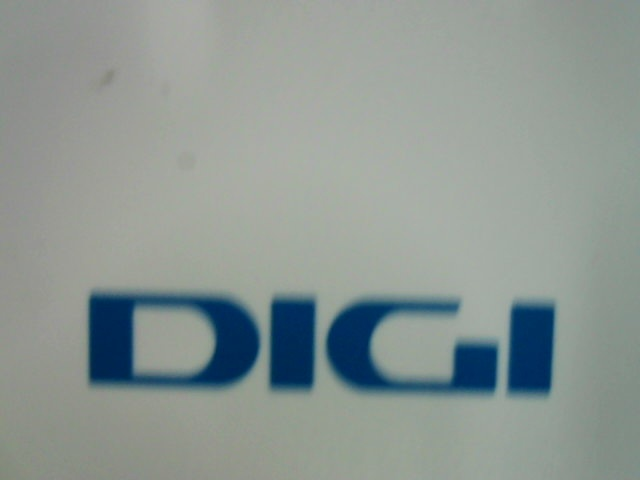BL_DIGI: (57, 283, 567, 404)
